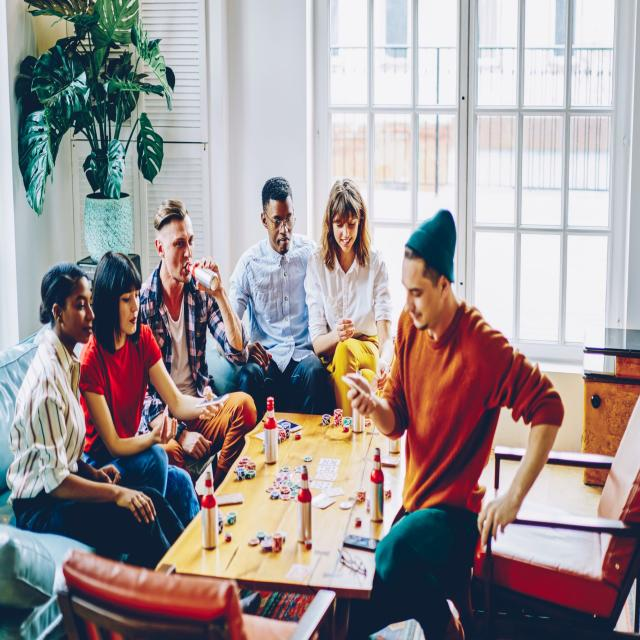adult: (342, 206, 561, 640), (9, 263, 179, 561), (80, 255, 214, 513), (142, 197, 256, 458), (218, 178, 332, 404), (306, 178, 394, 361)
